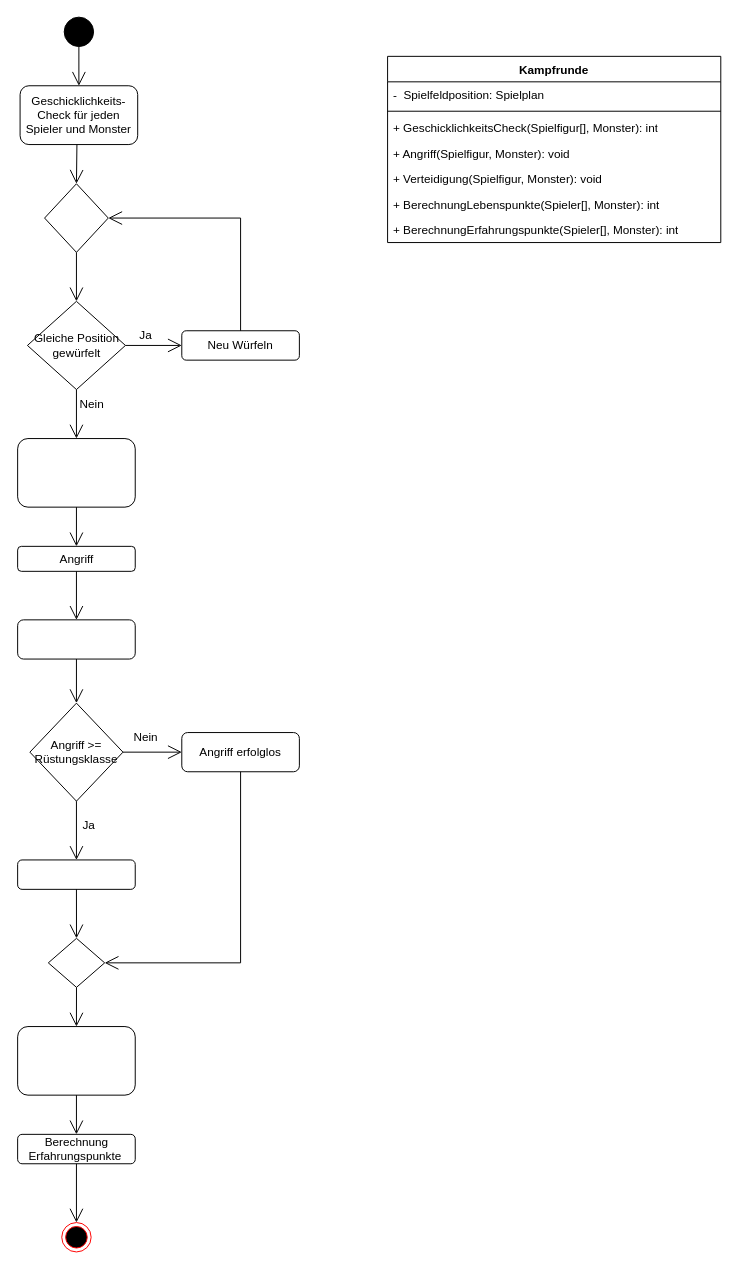
Image size: 738x1269. Some labels were removed from this diagram. The shapes that lost their labels are listed below. From the top down, each one's centre as x and y in pixels, then its label:
At [76,472]: "Spieler entscheiden nach gewürfelter Reihenfolge, welche Waffe benutzt wird".
At [76,639]: "Gegner verteidigt sich mit Rüstungsklasse".
At [76,874]: "Angriff erfolgreich".
At [76,1060]: "Schadenspunkte würfeln und Lebenspunkte berechnen".
